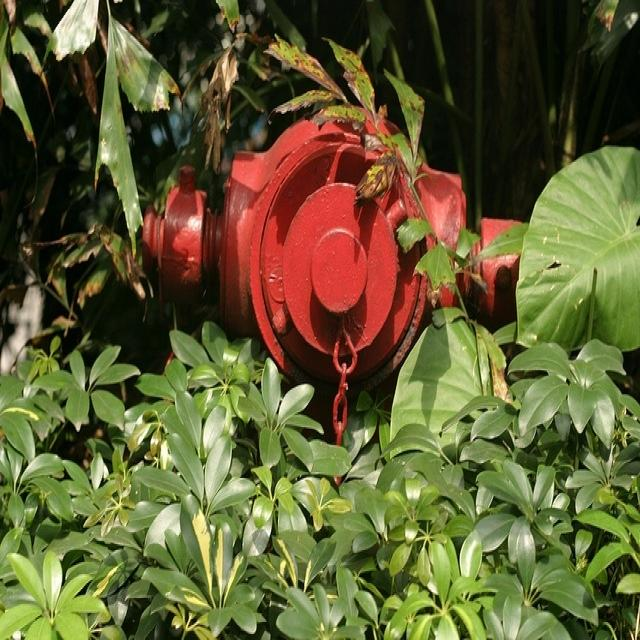fire_hydrant: (154, 70, 604, 571)
